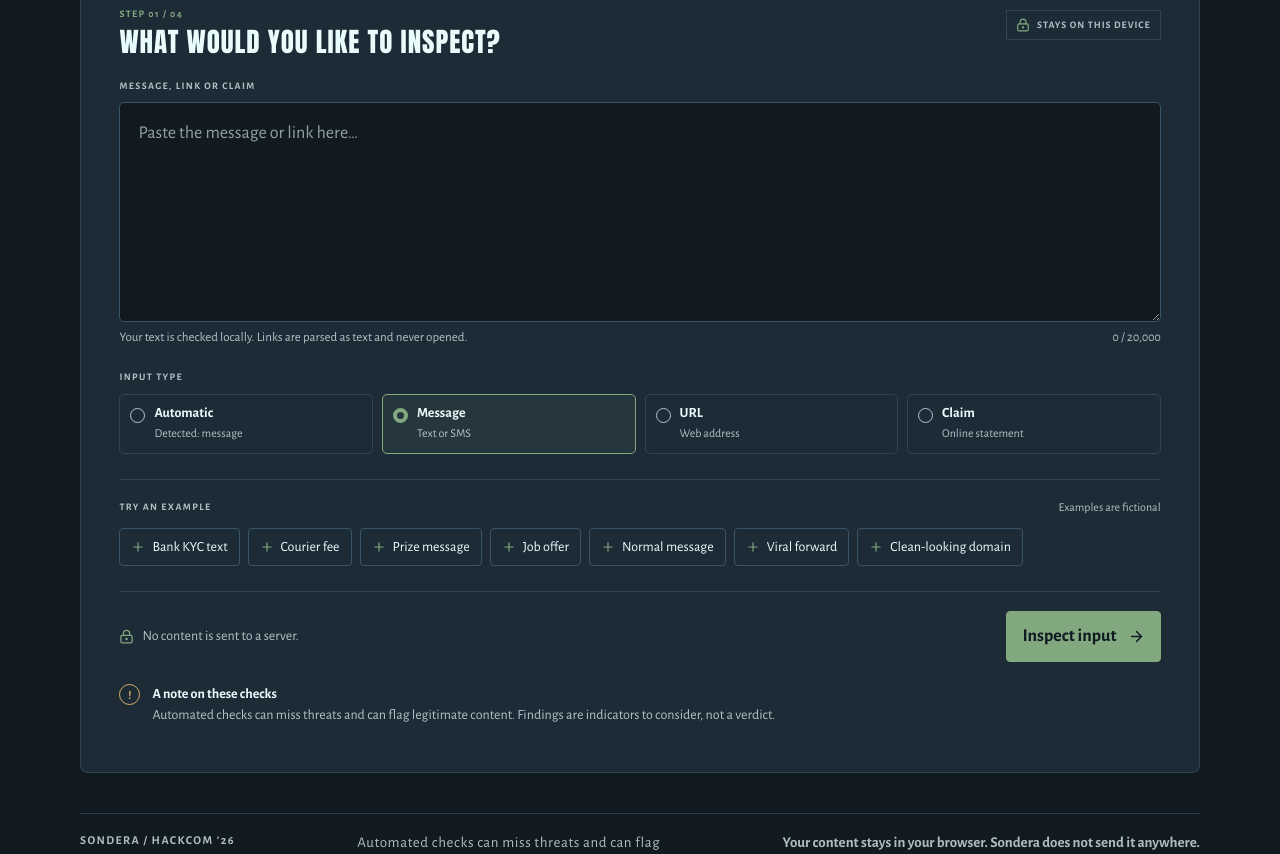
Scenario: Sondera Submit and Inspect › opens the real Decision Receipt as the fourth step
(page scrolled)
Click the button "Normal message".
click(657, 547)  # box [589, 528, 726, 566]
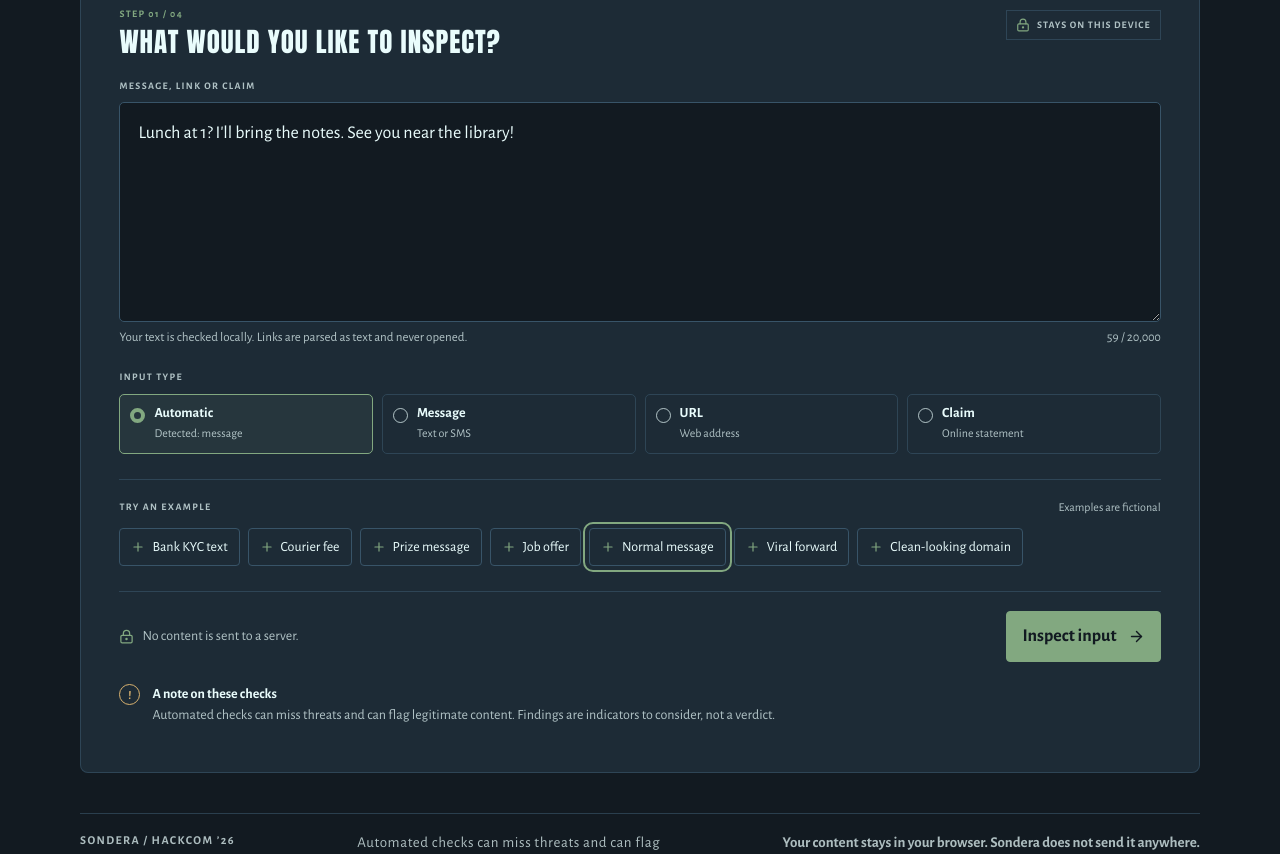
Click the button "Inspect input".
click(1084, 637)  # box [1006, 611, 1161, 662]
(page scrolled)
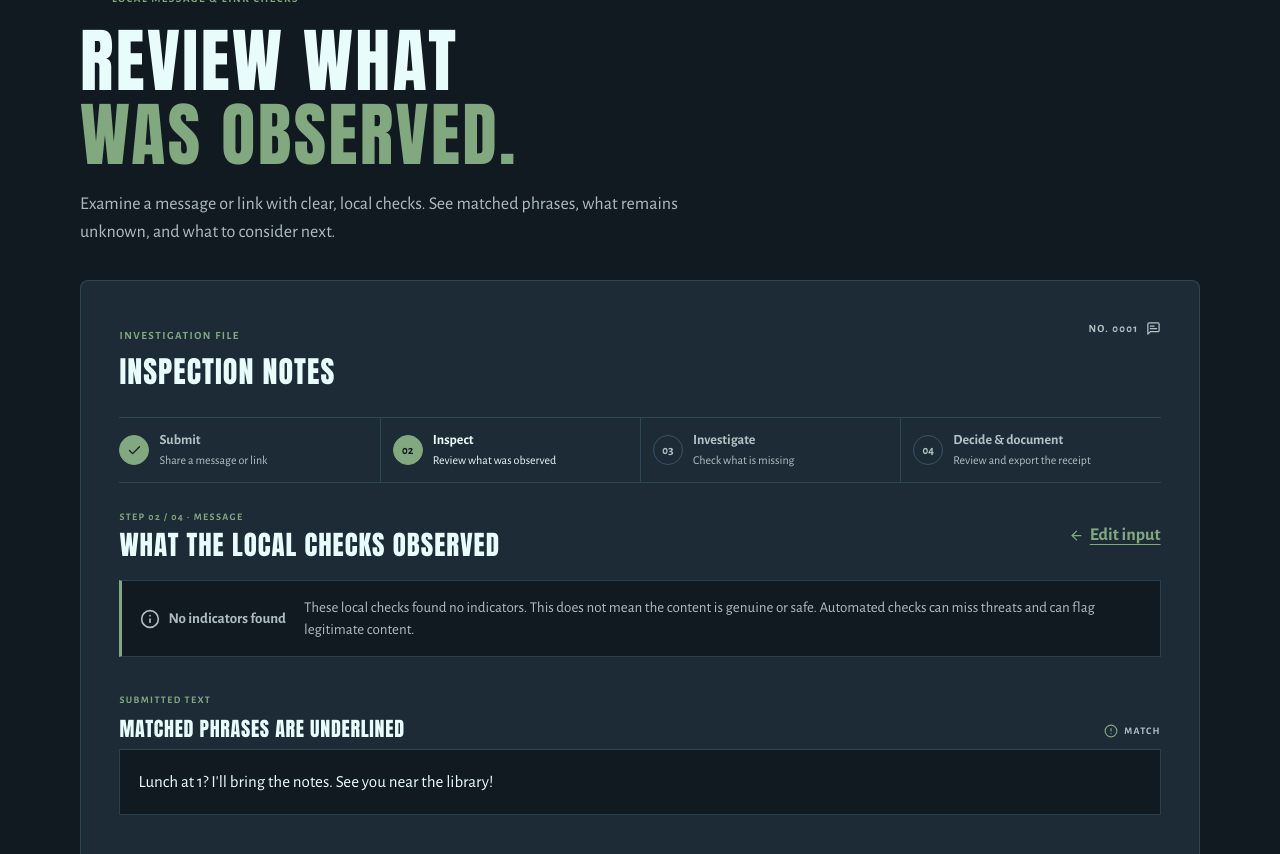
Click the button "04 Decide & document Review and export the receipt".
click(1030, 450)  # box [900, 418, 1161, 482]
(page scrolled)
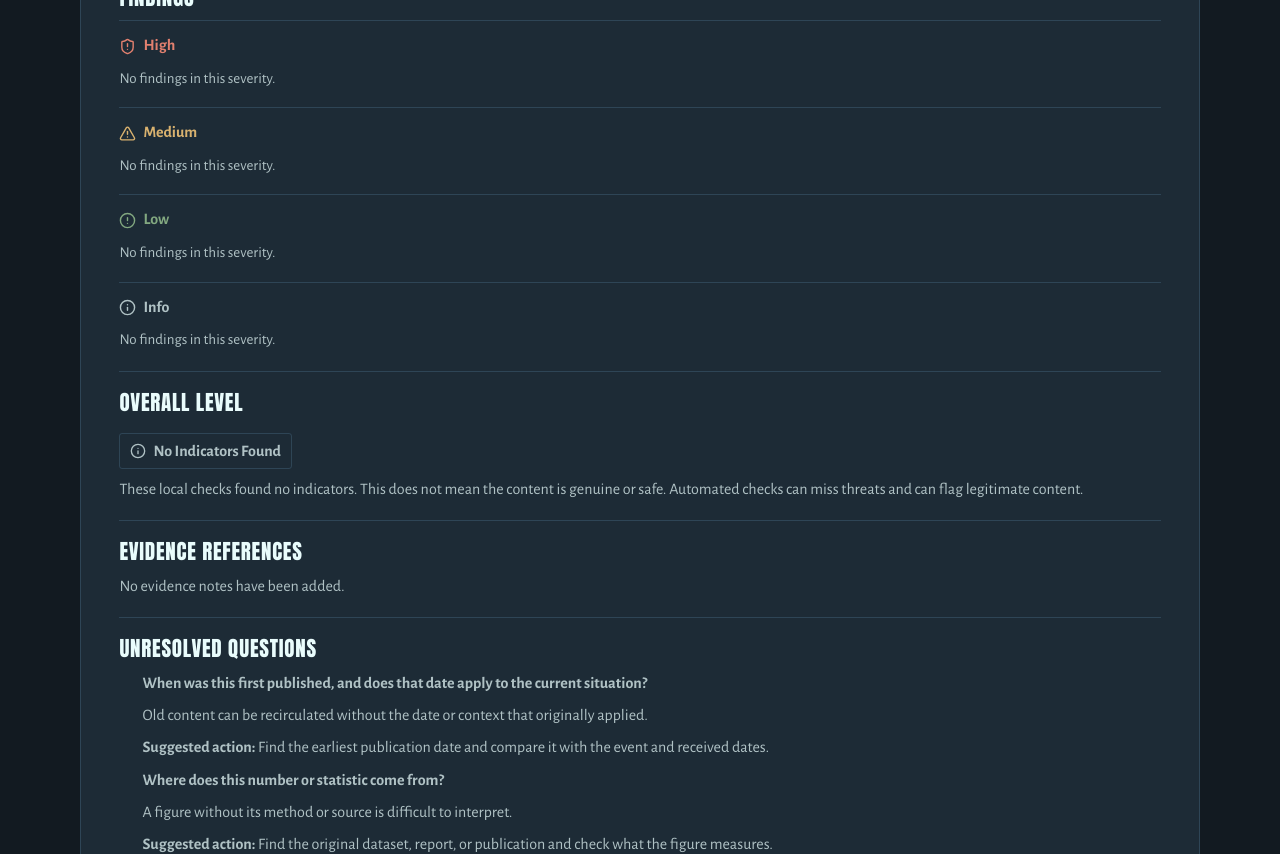
expect the text "No indicators found" is shown: met, box [153, 439, 281, 463]
expect the heading "Evidence references" is shown: met, box [119, 535, 303, 567]
expect the heading "Unresolved questions" is shown: met, box [119, 632, 317, 664]
